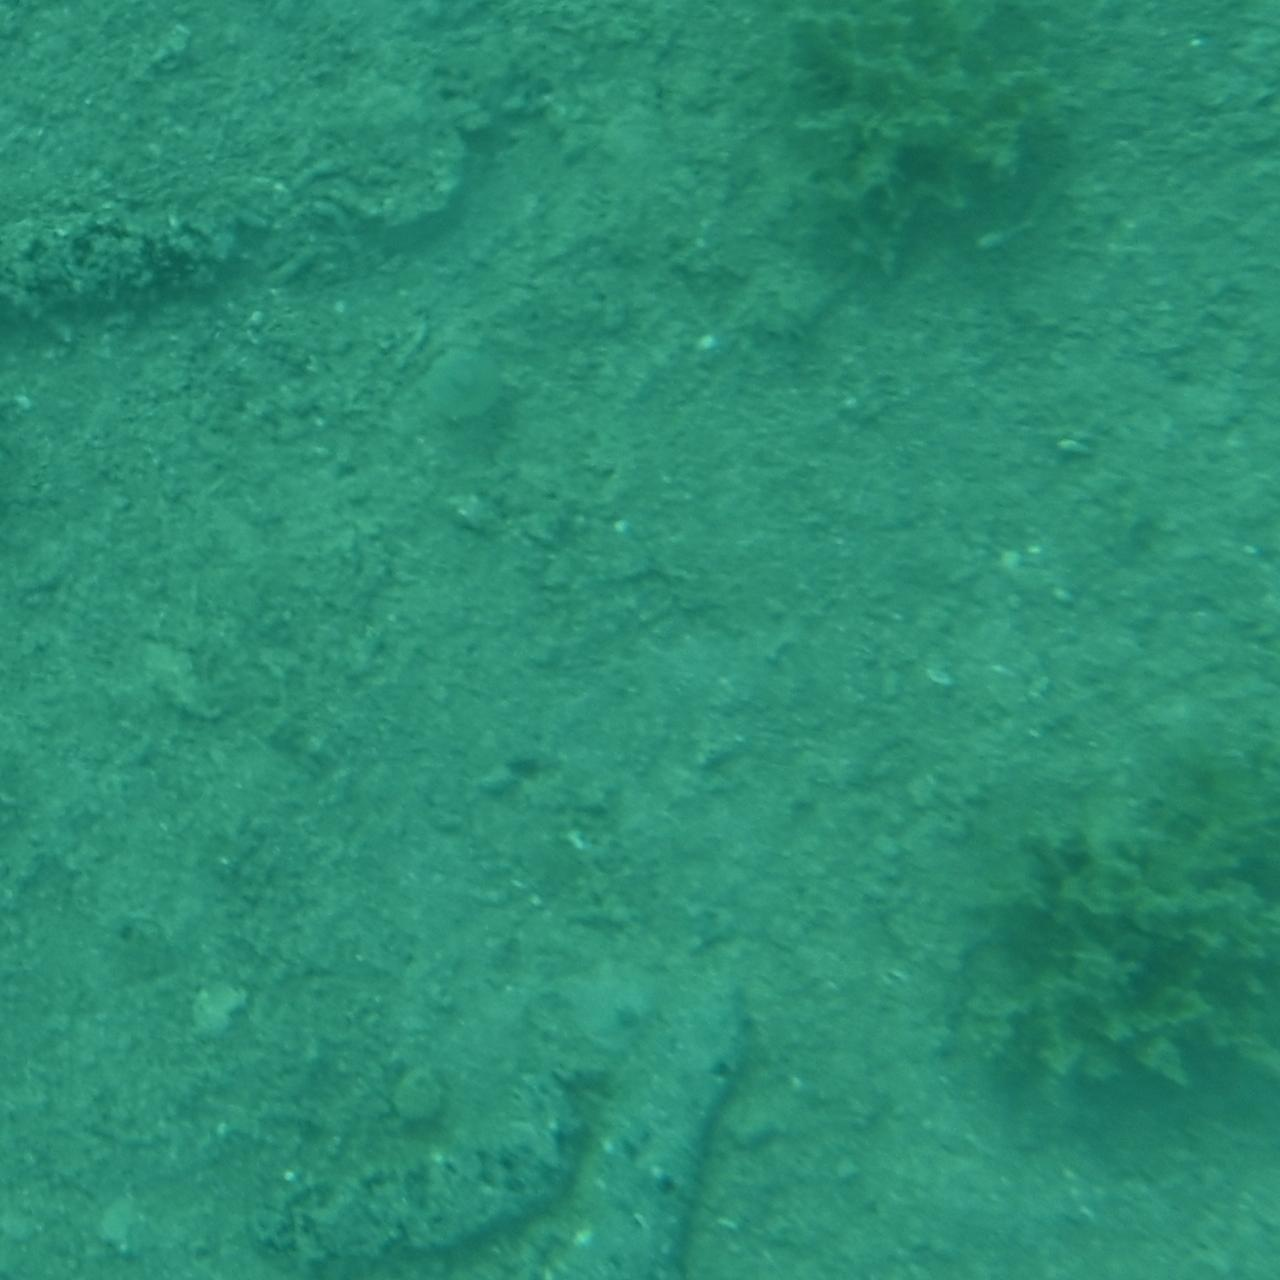Holothuria tubulosa: (0, 183, 300, 527), (518, 971, 754, 1280), (258, 1071, 579, 1280)
Phaeophyceae -cfr Cystoseira-: (958, 735, 1280, 1126), (758, 0, 1098, 324)
